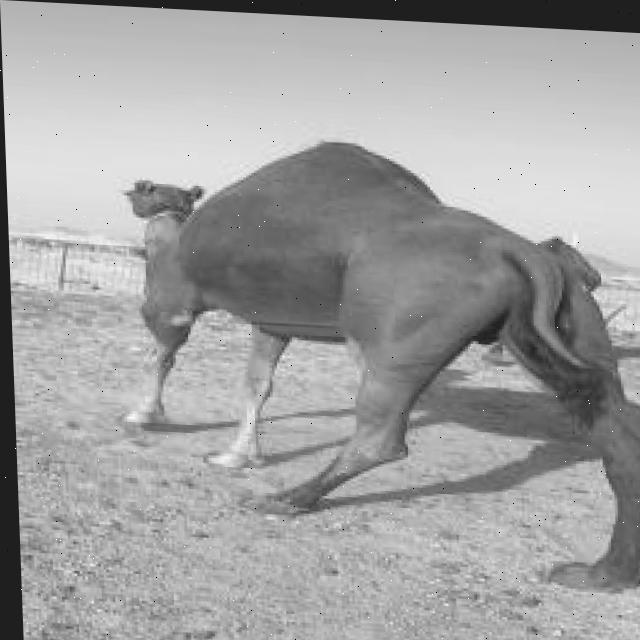Camel: (108, 126, 640, 596)
